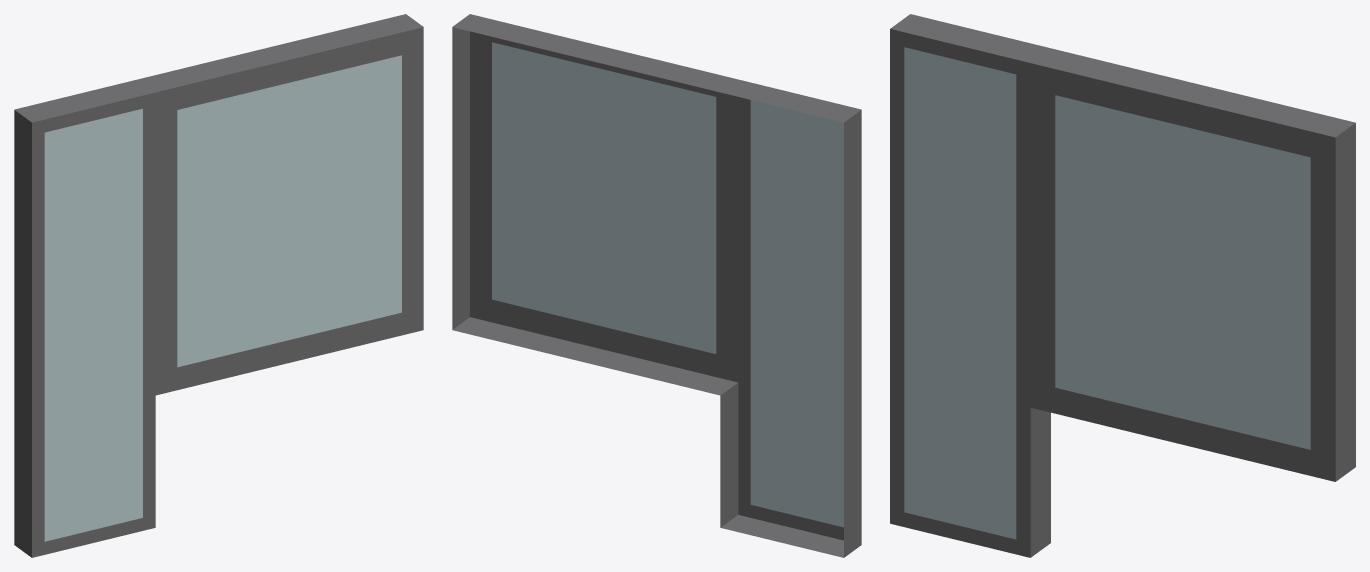
Rendered from Balcony doors in front.fbx.
The picture shows the model from 3 angles, left to right: view 1: azimuth 30°, elevation 25°; view 2: azimuth 150°, elevation 25°; view 3: azimuth 330°, elevation 25°; orthographic projection. The views are drawn at different scales.
Visible parts, largest first — view 1: Fasad min.004; view 2: Fasad min.004; view 3: Fasad min.004.
Part boxes in pixels (x1,y1,x2,y2): Fasad min.004: (14, 14, 423, 557); Fasad min.004: (452, 14, 861, 557); Fasad min.004: (890, 14, 1355, 557).
Size of the model in its own units: 482 by 512 by 37.98.
